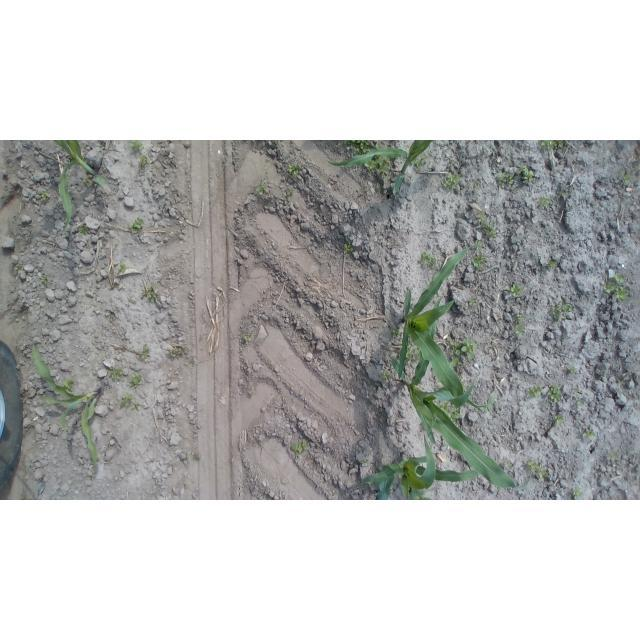Maize: (390, 358, 532, 490), (398, 244, 490, 408), (32, 343, 104, 473), (326, 140, 436, 194), (362, 449, 478, 499), (53, 140, 108, 232), (377, 464, 396, 500)
Weeds: (603, 273, 630, 303), (450, 339, 479, 366), (525, 455, 548, 481), (552, 300, 575, 325), (140, 285, 161, 304), (291, 438, 309, 459), (342, 140, 371, 153), (418, 250, 437, 267), (517, 165, 535, 182), (129, 217, 145, 236), (549, 384, 564, 404), (443, 173, 461, 189), (470, 253, 486, 271), (483, 220, 497, 239), (498, 172, 515, 187), (540, 140, 565, 150), (507, 283, 523, 297), (526, 385, 542, 399), (109, 365, 123, 380), (412, 489, 431, 500), (255, 180, 268, 196), (138, 344, 151, 360), (539, 193, 552, 209), (120, 392, 132, 409), (130, 373, 142, 389), (288, 163, 303, 175), (572, 485, 584, 500), (406, 343, 416, 361), (169, 346, 185, 357), (546, 258, 559, 271), (448, 407, 461, 420), (514, 323, 526, 337), (581, 429, 596, 440), (62, 377, 74, 390), (131, 140, 144, 152), (377, 164, 391, 175), (376, 155, 390, 166), (116, 261, 128, 273), (77, 223, 88, 236), (379, 371, 393, 381), (621, 170, 631, 184), (343, 241, 354, 253), (605, 451, 618, 461), (138, 154, 148, 167), (414, 157, 423, 171), (515, 312, 525, 324), (473, 239, 483, 250), (555, 415, 565, 426), (364, 161, 377, 169), (193, 451, 202, 462), (391, 328, 402, 337), (286, 184, 294, 196), (438, 402, 448, 411), (41, 191, 49, 202), (504, 459, 513, 468), (187, 358, 196, 367), (567, 365, 577, 373), (132, 402, 140, 412), (479, 212, 486, 223), (40, 275, 49, 283), (14, 264, 23, 272), (242, 334, 250, 343), (617, 379, 625, 387), (556, 190, 565, 197), (576, 398, 585, 405), (182, 450, 189, 459), (469, 298, 477, 305), (423, 153, 430, 160), (474, 184, 481, 191), (83, 178, 89, 186), (573, 388, 582, 393), (359, 459, 367, 464), (285, 197, 290, 203), (376, 143, 380, 150), (184, 485, 189, 490), (377, 182, 381, 188), (19, 496, 25, 500), (636, 166, 640, 170), (471, 182, 474, 186)
